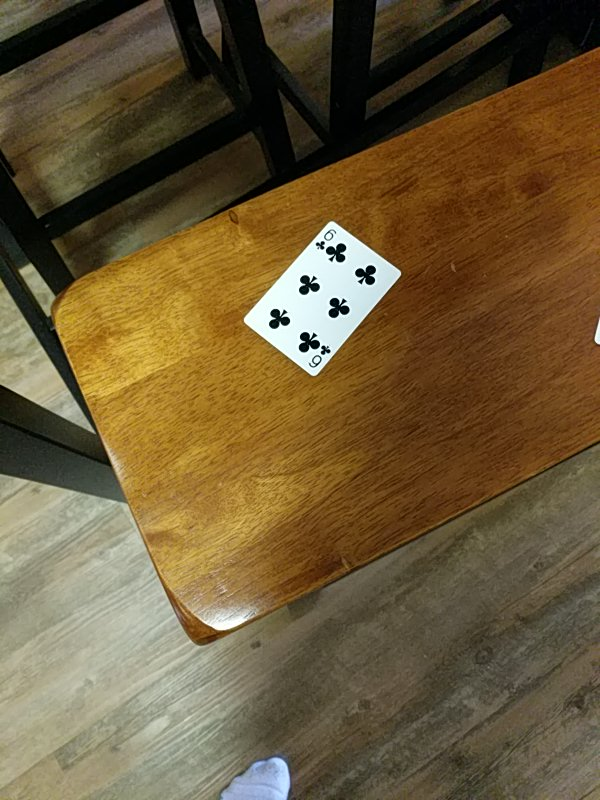Clubs: (242, 218, 405, 380)
